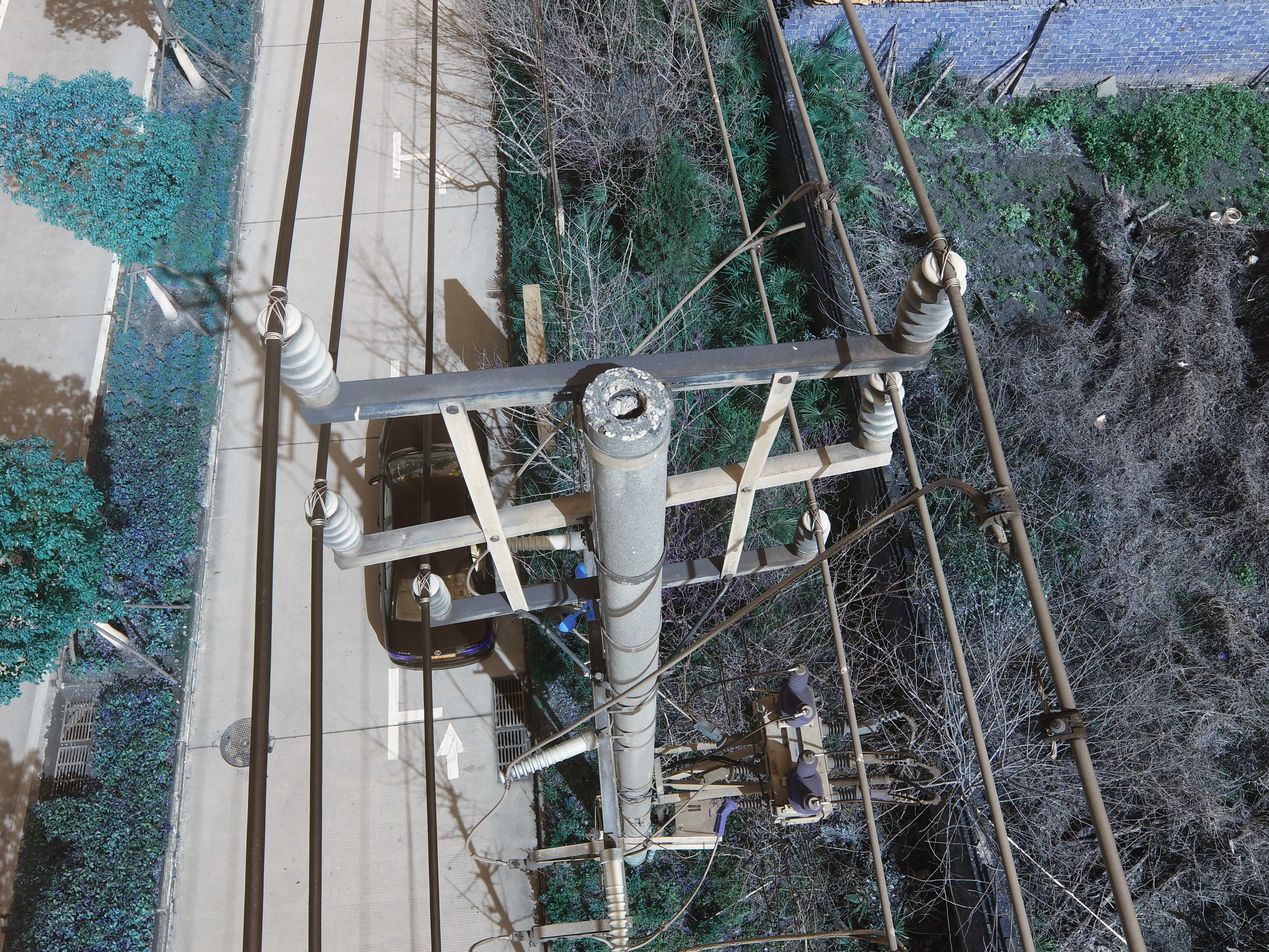severe_soiling_no_discharge_whole: (888, 239, 971, 357), (255, 303, 341, 409), (855, 368, 908, 453), (304, 488, 366, 560), (407, 569, 455, 622), (791, 508, 834, 562)
